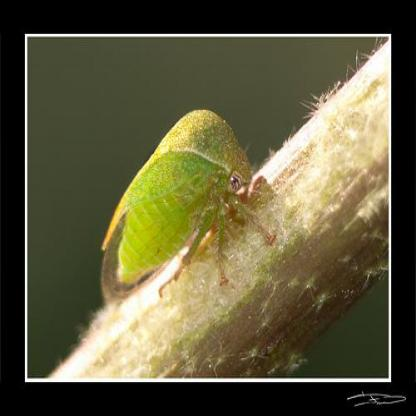aphid: (97, 96, 264, 308)
